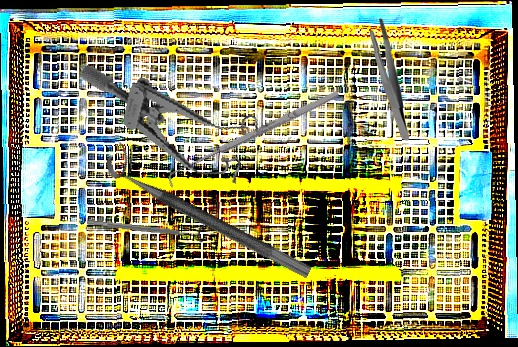Dressing Forceps: (367, 17, 412, 142)
Fixation Ring: (101, 140, 322, 281), (86, 212, 206, 244)
Hook Surgical: (162, 87, 345, 189)
Speculum: (62, 63, 275, 189)
